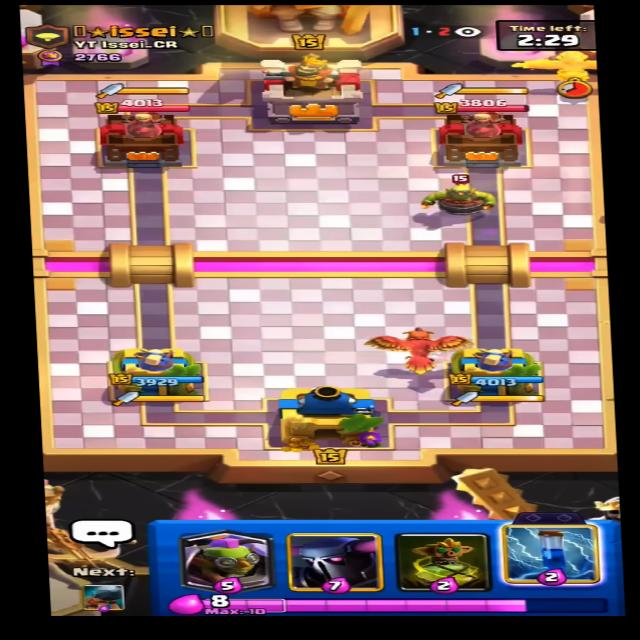Goblindemolisher: (419, 174, 504, 218)
Pheonix: (499, 46, 609, 89)
